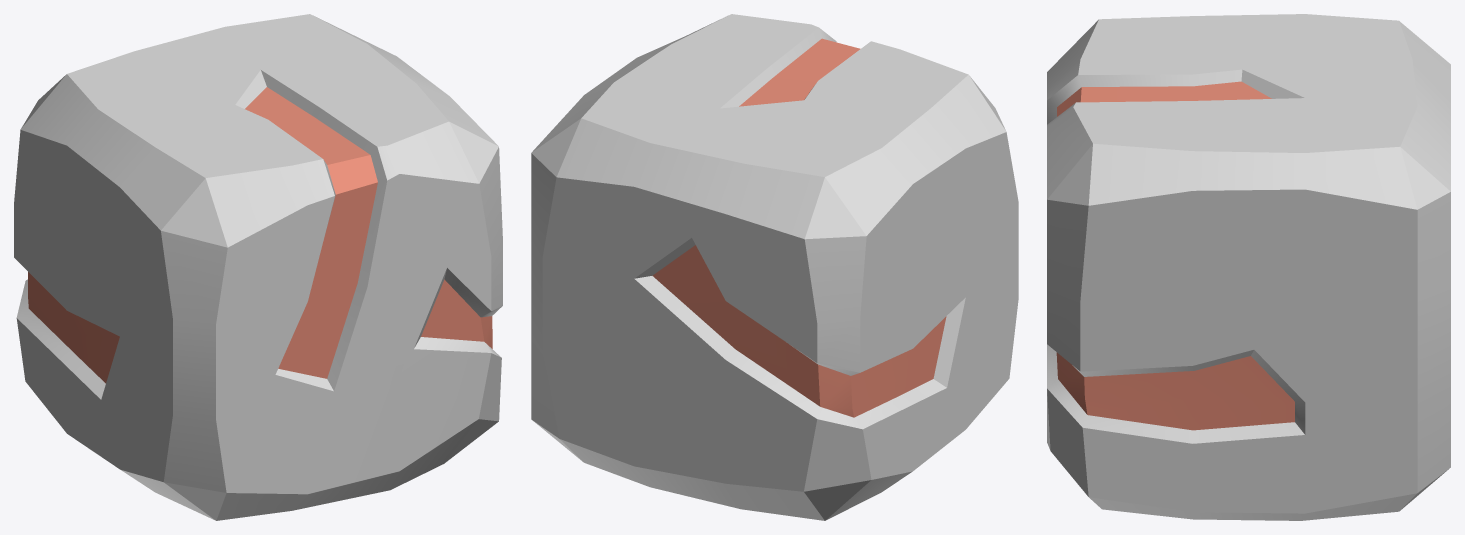
Rendered from Iron_Ore.fbx.
3 views of the same model, side by side, from view 1: azimuth 30°, elevation 25°; view 2: azimuth 150°, elevation 25°; view 3: azimuth 270°, elevation 25° (orthographic). The views are drawn at different scales.
Visible parts, largest first — view 1: Cube.030; view 2: Cube.030; view 3: Cube.030.
Boxes of the visible parts, <box> form: Cube.030: <box>14,14,502,520</box>; Cube.030: <box>531,14,1018,520</box>; Cube.030: <box>1047,14,1450,520</box>.
Size of the model in its own units: 30.38 by 30.38 by 30.38.
